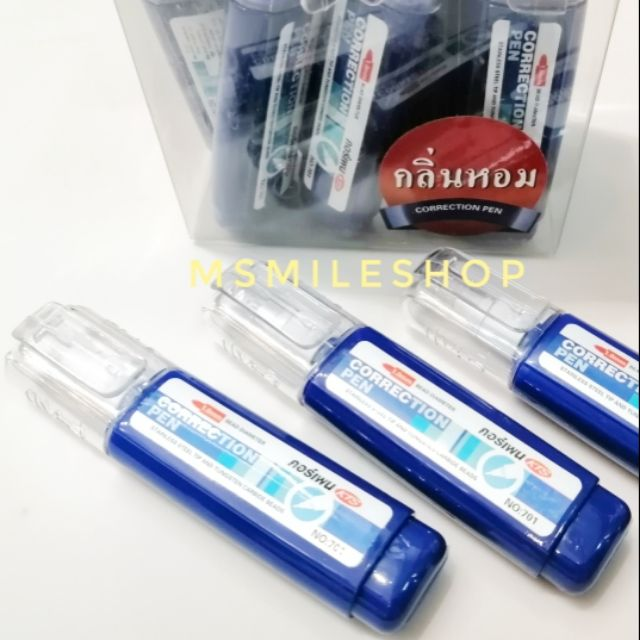Correction_fluid: (3, 295, 453, 640), (193, 257, 636, 600), (398, 238, 640, 476)
